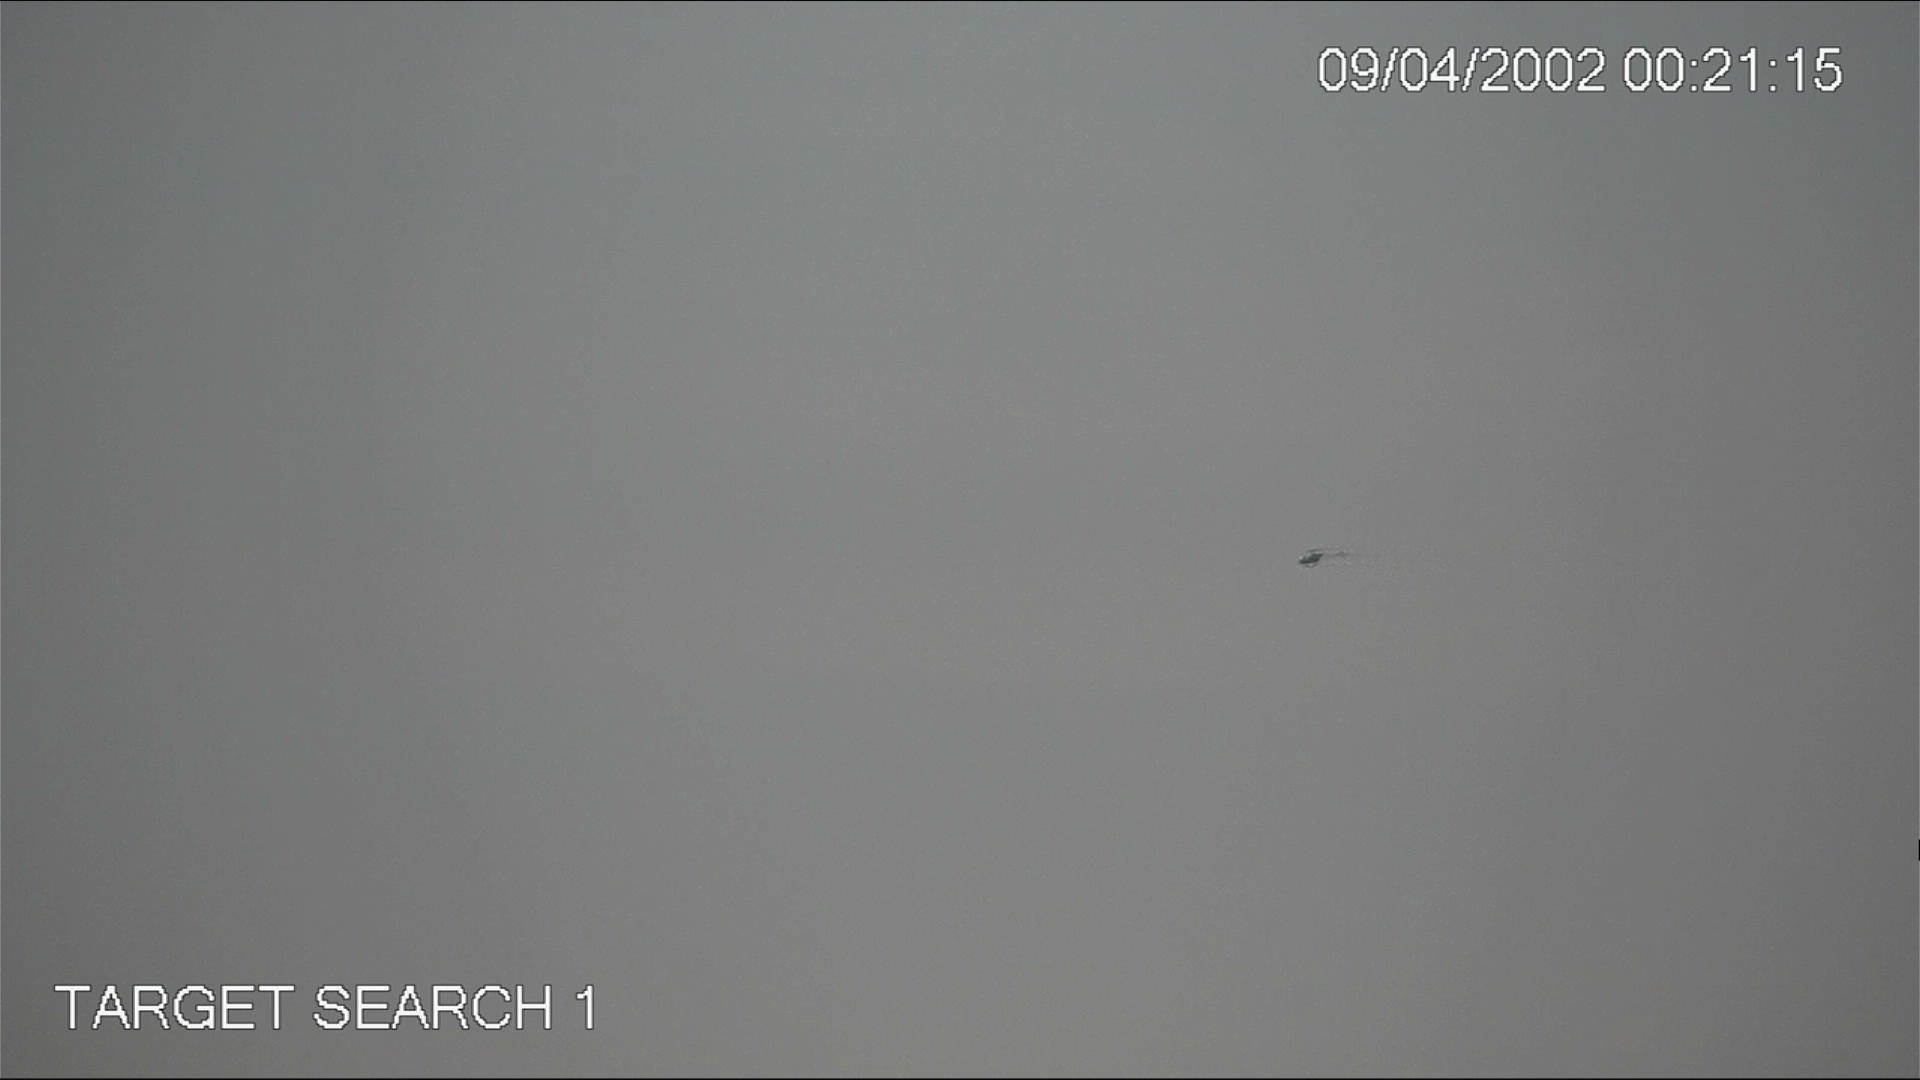SU_30: (1298, 550, 1325, 568)
